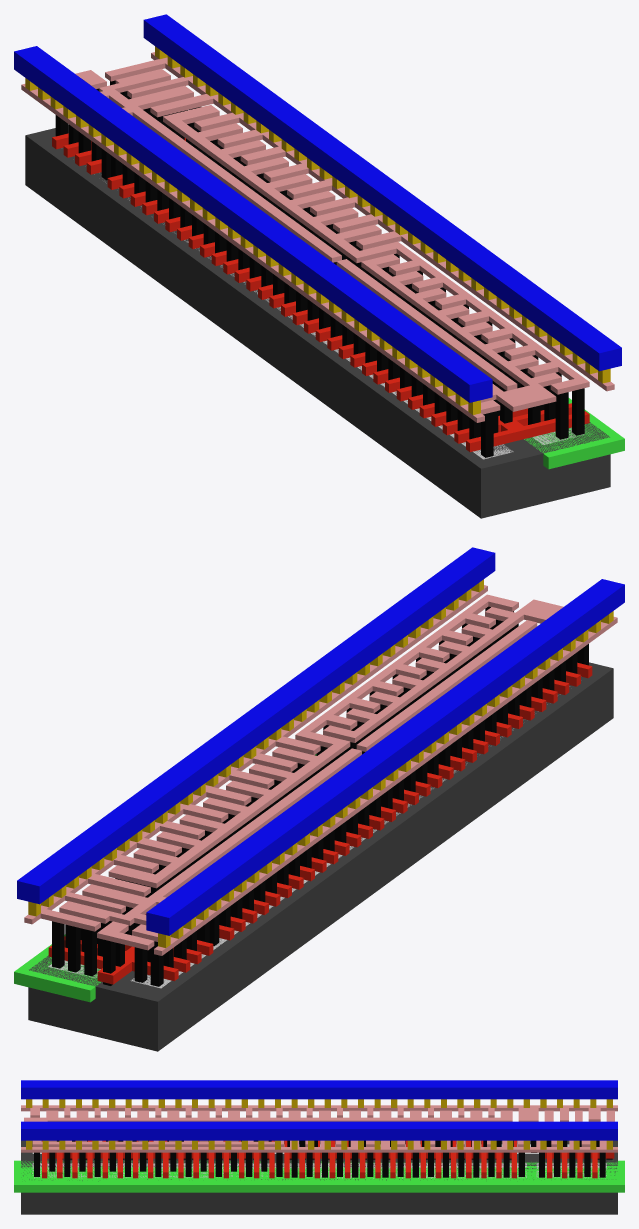
Rendered from sky130_fd_sc_hd__lpflow_isobufsrc_16.obj.
3 renders of one model, top to bottom at view 1: azimuth 30°, elevation 25°; view 2: azimuth 150°, elevation 25°; view 3: azimuth 270°, elevation 25°, orthographic. The views are drawn at different scales.
Visible parts, largest first — view 1: metal1, li, subs, licon, poly, mcon, nwell; view 2: metal1, li, subs, licon, poly, mcon, nwell; view 3: metal1, subs, li, nwell, poly, licon, mcon, tap.
Boxes of the visible parts, x1,y1,x2,y2 form: metal1: (14,14,621,402); li: (21,52,614,422); subs: (25,125,610,518); licon: (55,80,584,457); poly: (52,133,589,452); mcon: (25,46,610,414); nwell: (524,398,624,469); metal1: (17,547,624,935); li: (24,585,617,955); subs: (28,662,613,1051); licon: (52,606,588,986); poly: (48,662,592,984); mcon: (28,579,613,947); nwell: (14,754,316,1002); metal1: (21,1080,617,1140); subs: (21,1140,617,1214); li: (21,1105,617,1152); nwell: (14,1160,624,1192); poly: (42,1140,614,1178); licon: (34,1140,612,1177); mcon: (26,1099,612,1149); tap: (32,1163,606,1178).
Size of the model in its own units: 3.2 by 2.74 by 16.94.
